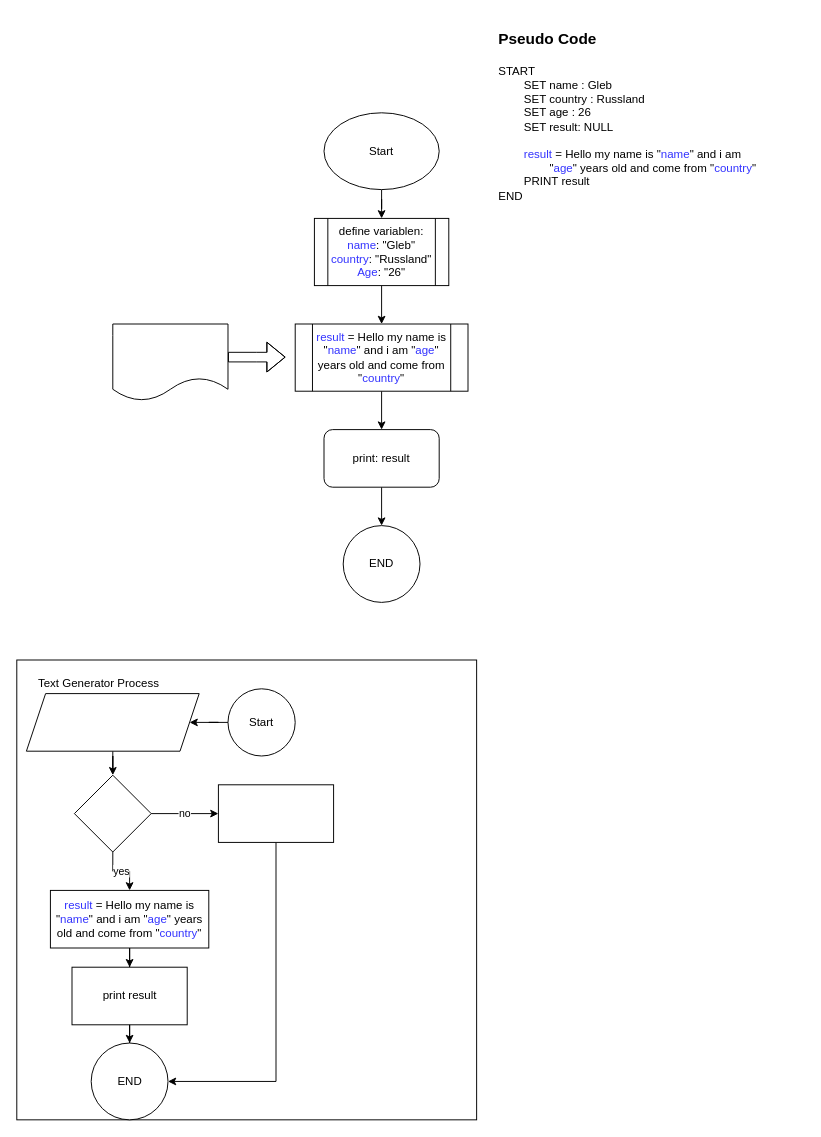
Image size: 821x1137. Some labels were removed from this diagram. Here are the shapes that lost their labels. From the top down, the centre of each, then its label:
At point 170,362: "Process: means when your app shall do something itself".
At point 112,722: "input: name, country, age".
At point 112,813: "all input exist".
At point 275,813: "print: Error".
